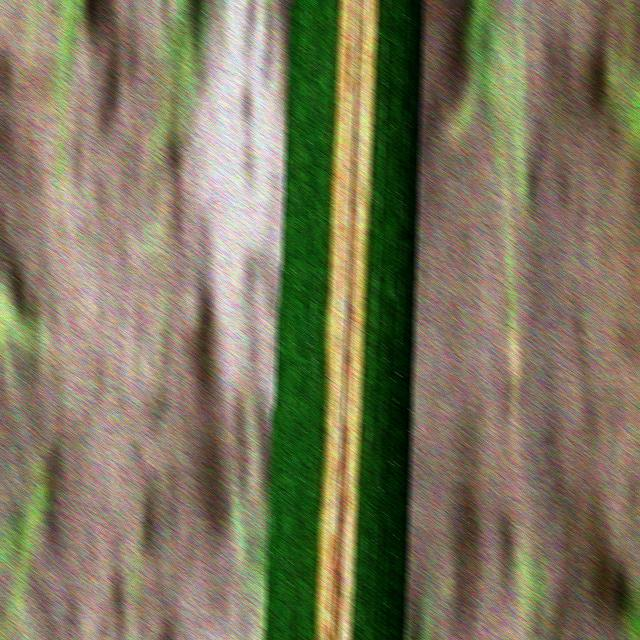BLB: (312, 1, 377, 640)
